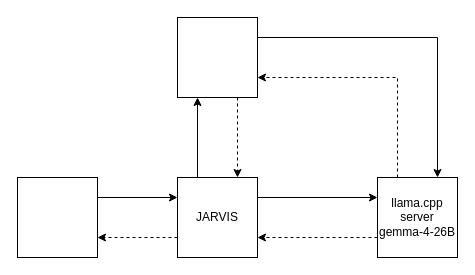
Image size: 475x275. Some labels were removed from this diagram. Here are the shapes that lost their labels. From the top down, the centre of each, then its label:
the point at 217,57: Interpreter
the point at 57,217: Open WebUI
